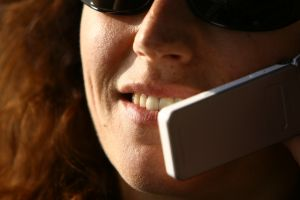phone: (169, 65, 300, 168)
